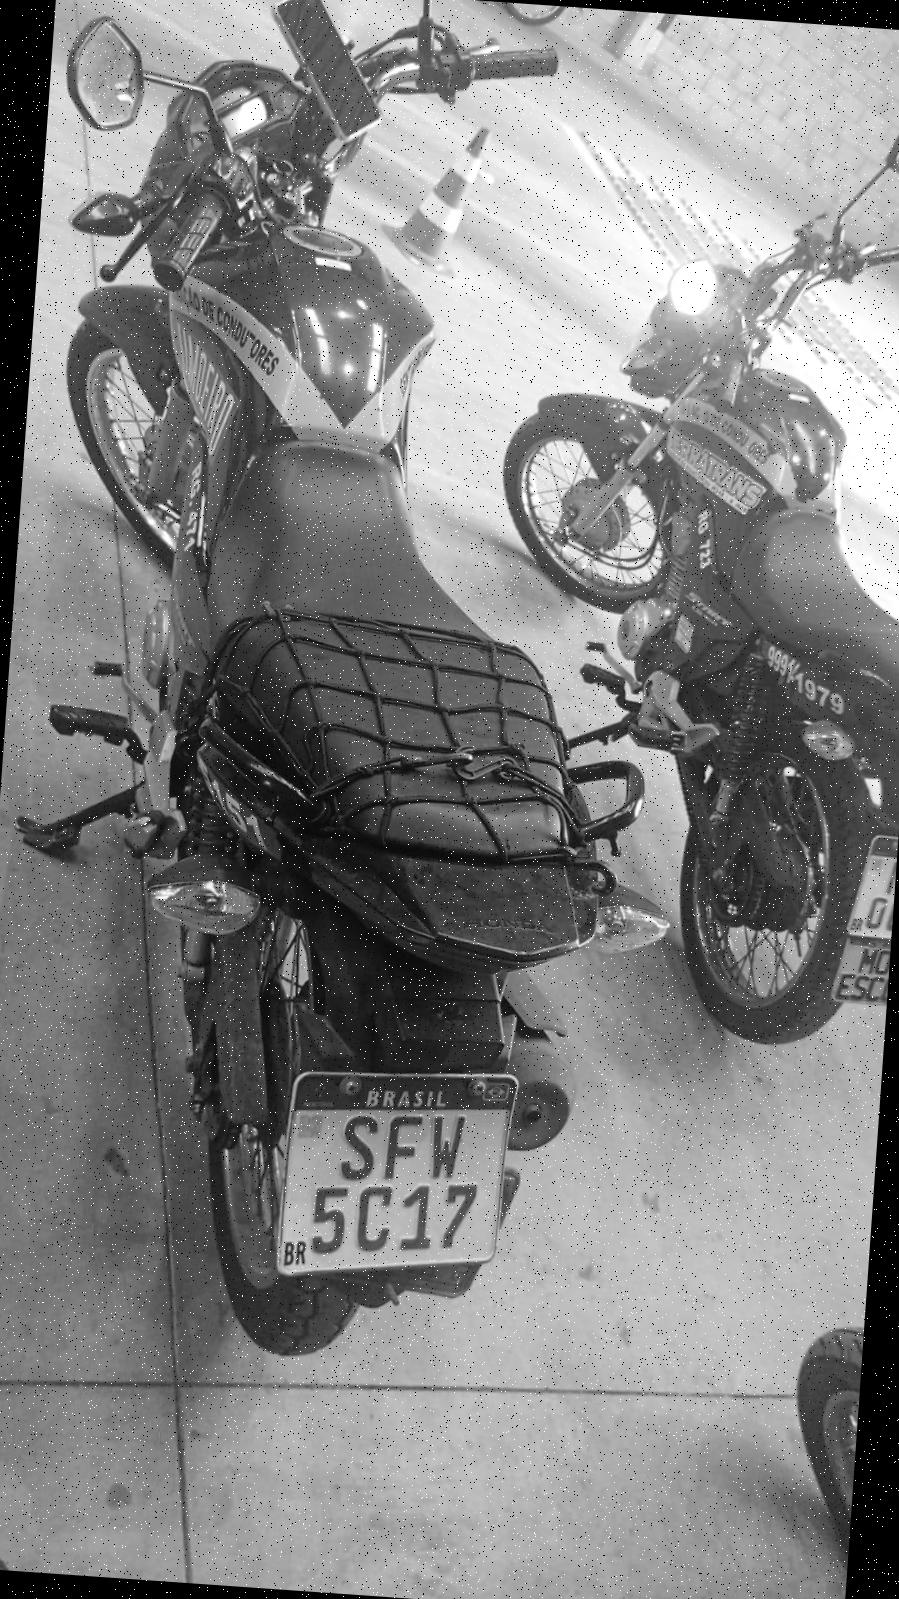placa_mercosul: (275, 1074, 515, 1276)
